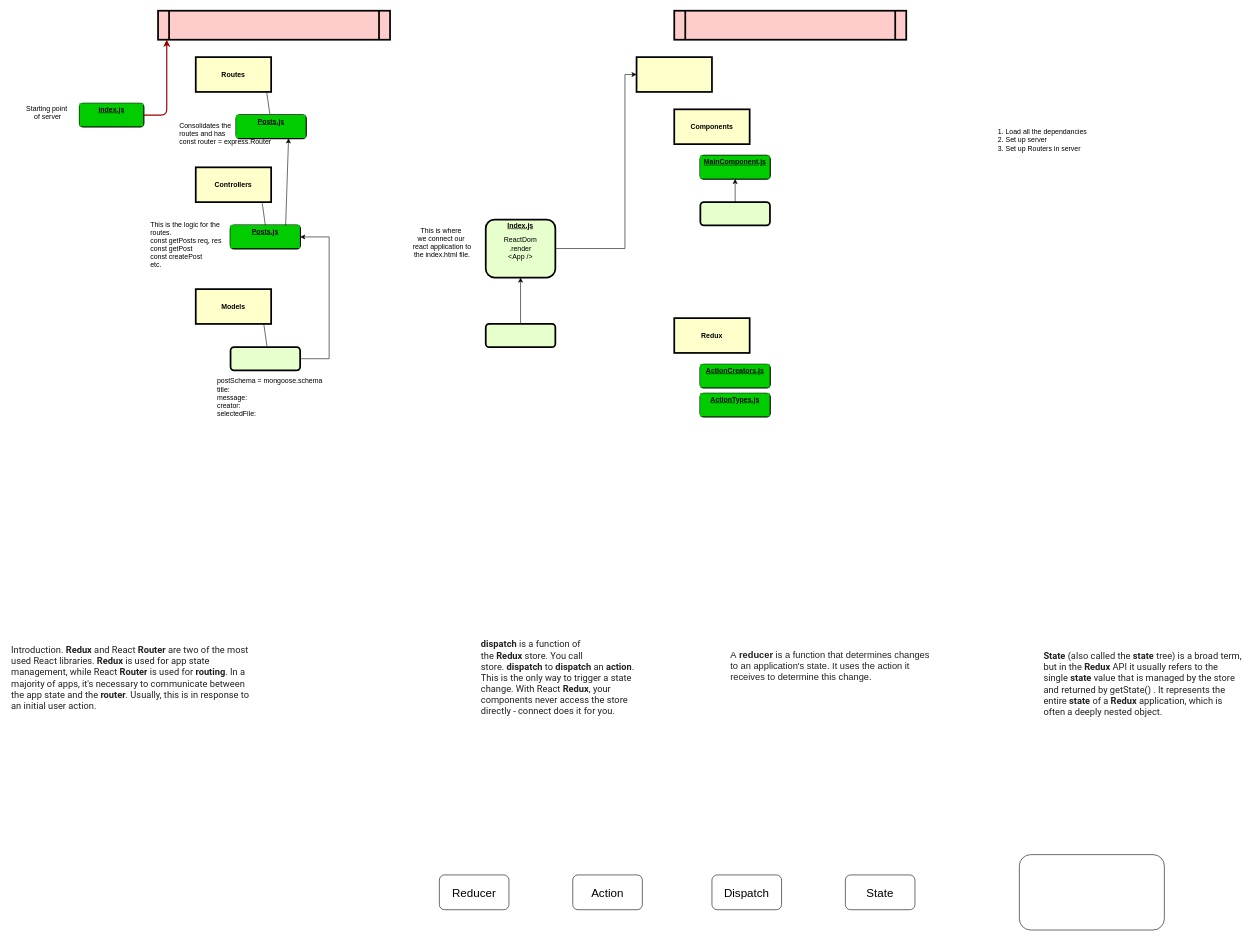
The diagram is 1255 pixels wide and 940 high, and some of its shapes have lost their labels. Each missing label, with the box of its shape:
App.js: (485, 323, 556, 348)
Client: (673, 10, 907, 40)
HeaderComponent.js: (699, 201, 771, 226)
postMessage.js: (229, 346, 301, 371)
Redux Store: (1019, 854, 1164, 930)
Server: (157, 10, 391, 40)
SRC: (635, 56, 713, 93)
